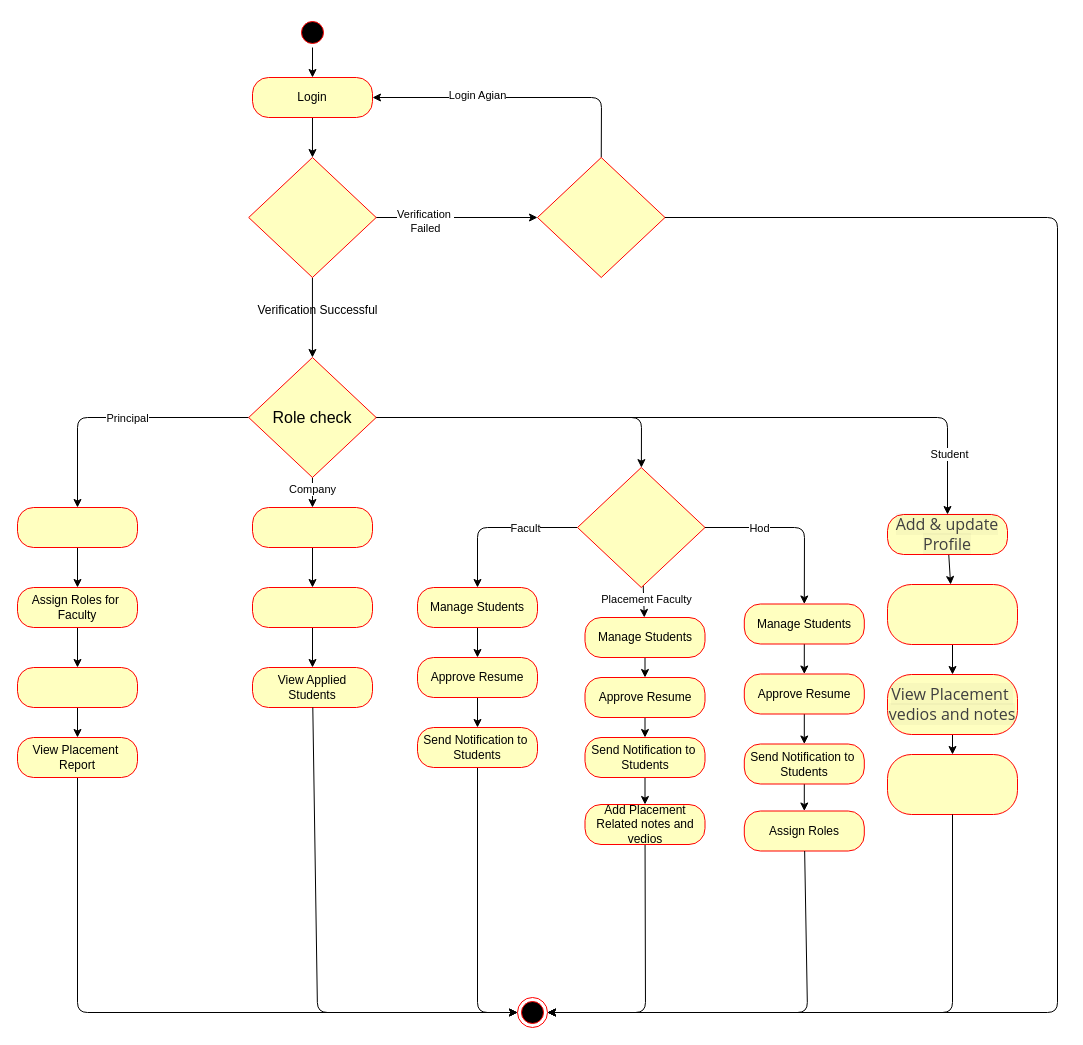
Image size: 1083x1045. Some labels were removed from this diagram. Here are the shapes that lost their labels. From the top down, the box of each, then its label:
(248, 156, 376, 278): Account Verification
(536, 156, 665, 278): Try Agian
(16, 506, 138, 548): Manage Faculty & Company
(252, 506, 372, 548): Manage Jobs
(576, 466, 705, 588): Faculty Role check
(252, 586, 372, 628): View Eligible Students
(886, 584, 1018, 644): Apply job is resume is accepted
(16, 666, 138, 708): Manage Degree Program
(886, 754, 1018, 814): Receive Notifications
